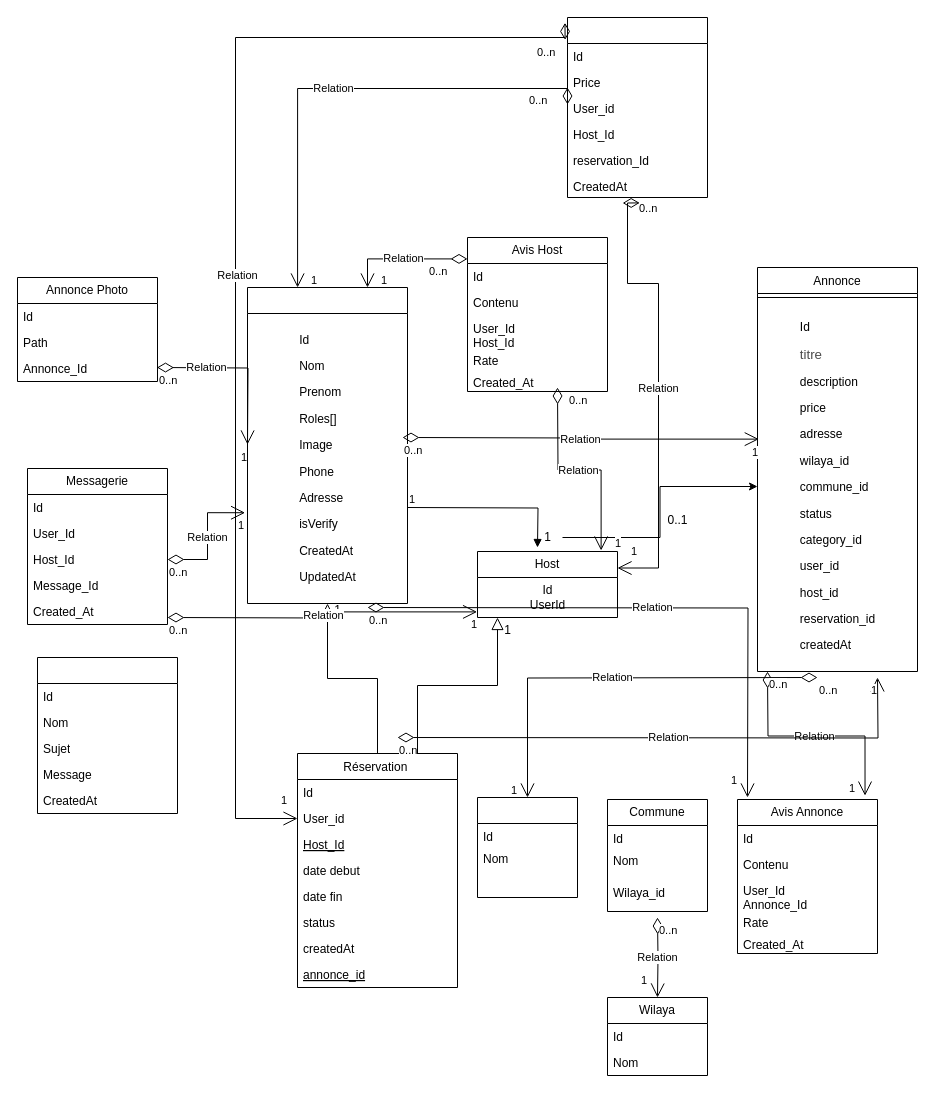
The diagram is 935 pixels wide and 1096 high, and some of its shapes have lost their labels. The box of each missing label's shape, as (x1, y1, x2, y2) in pixels:
Catégorie: (476, 796, 578, 898)
Contact: (36, 656, 178, 814)
Paiement: (566, 16, 708, 198)
User: (246, 286, 408, 604)
